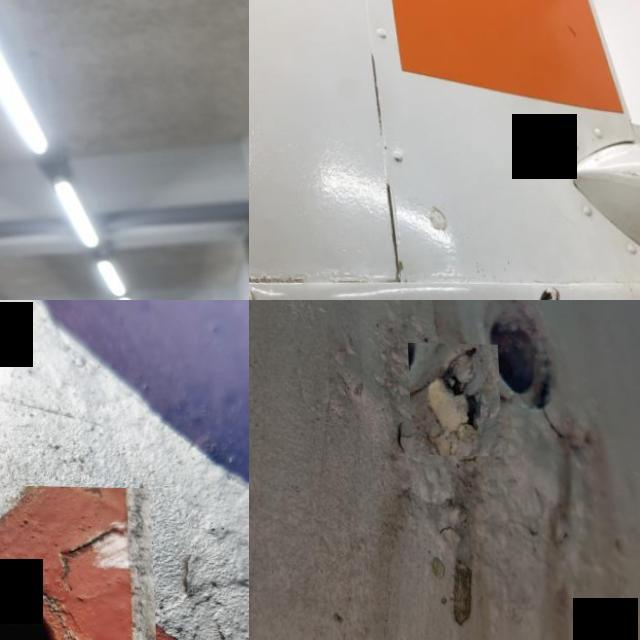Crack: (406, 342, 500, 456), (530, 273, 568, 300)
Missing_Fastener: (0, 481, 158, 640)
